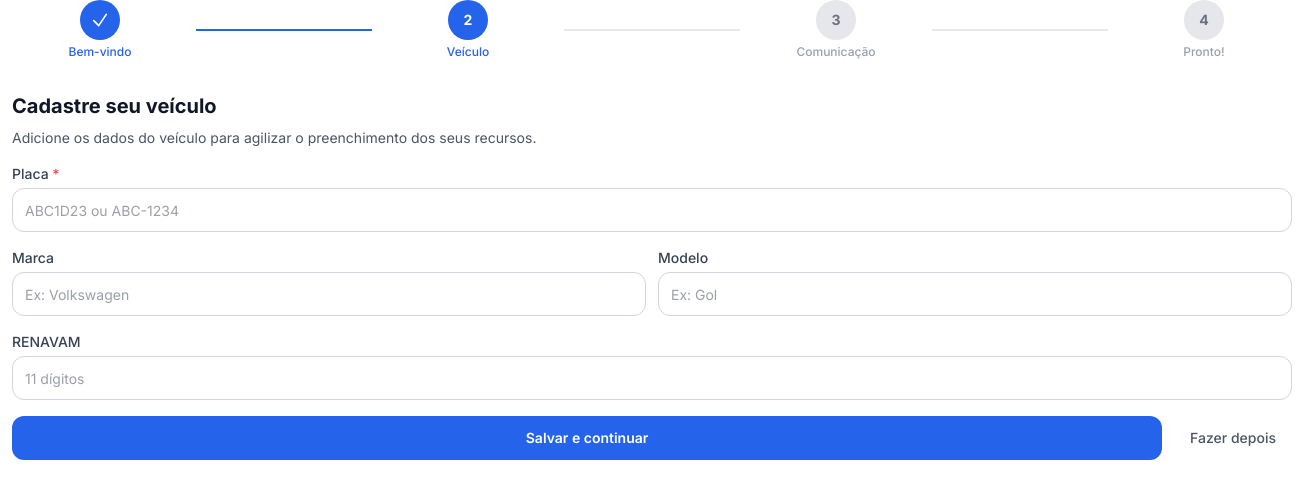
it: OnboardingStepperComponent › onPlateInput › should strip non-alphanumeric characters
In the field labelled "Placa *": [652, 210] box [12,188,1292,232], type "AB-C1!D2"
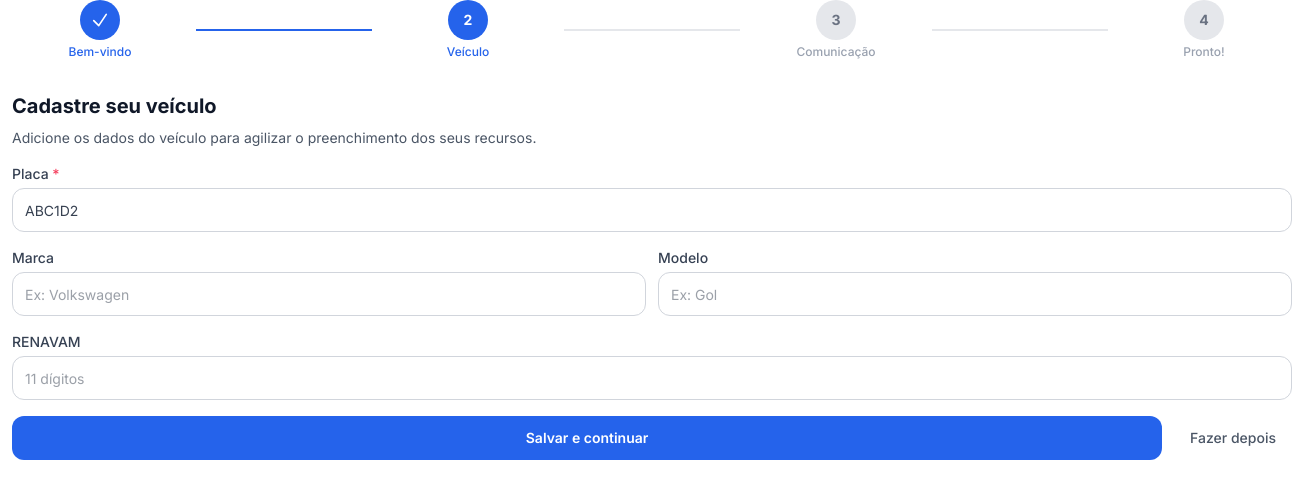
Expected: the field labelled "Placa *" holds "ABC1D2", [12,188,1292,232]
